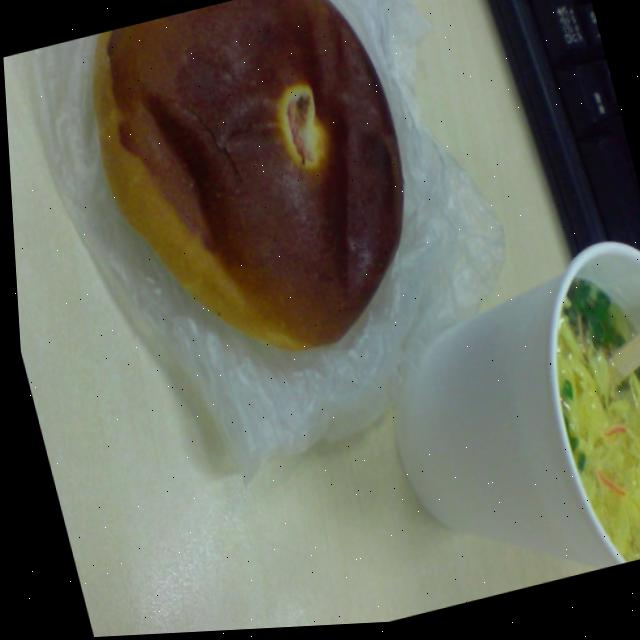汤锅炖物: (512, 230, 640, 579)
